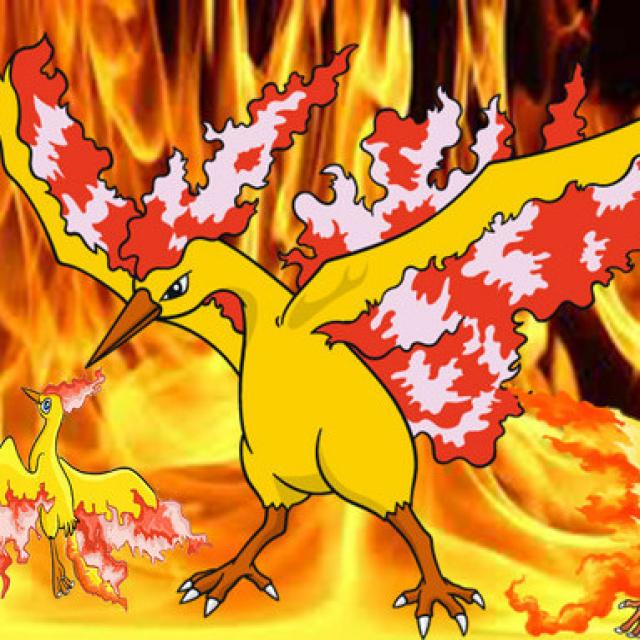Moltres: (77, 103, 523, 627), (2, 377, 201, 608)
